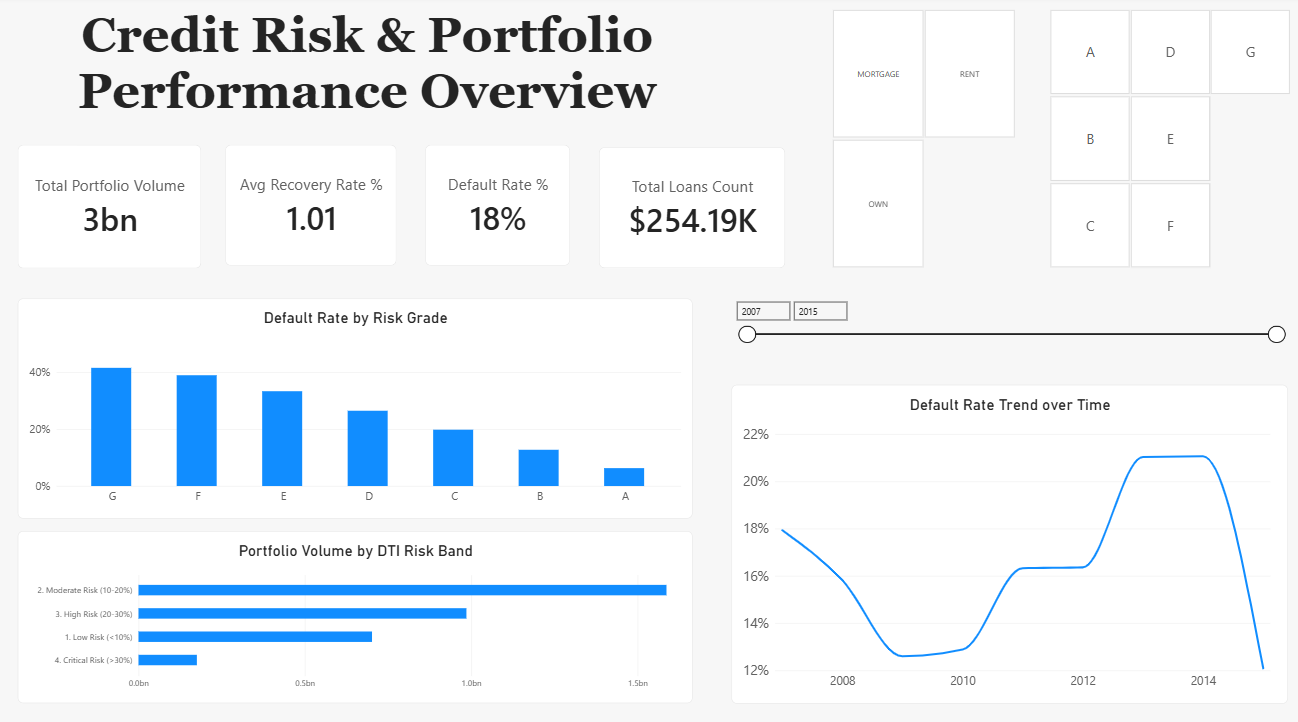

What the dashboard file says about the page in this screenshot:
{"tool":"powerbi","page":{"name":"Executive Portfolio Overview","canvas":[1920,1080],"ordinal":0},"visuals":[{"type":"slicer","fields":{"Values":["loan_processed.issue_year"]},"box":[1078.5,445.4,819,116],"z":0},{"type":"slicer","fields":{"Values":["loan_processed.grade"]},"box":[1527.6,18.4,392,382.8],"z":1000},{"type":"slicer","fields":{"Values":["loan_processed.home_ownership"]},"box":[1207.4,18.4,307.4,382.8],"z":2000},{"type":"cardVisual","fields":{"Data":["loan_processed.Total Portfolio Volume"]},"box":[27.6,219,270.6,182.2],"z":3000},{"type":"cardVisual","fields":{"Data":["loan_processed.Avg Recovery Rate %"]},"box":[333.1,219,252.1,178.5],"z":4000},{"type":"cardVisual","fields":{"Data":["loan_processed.Total Loans Count"]},"box":[883.4,222.7,274.2,178.5],"z":5000},{"type":"cardVisual","fields":{"Data":["loan_processed.Default Rate %"]},"box":[627.6,219,213.5,178.5],"z":6000},{"type":"lineChart","title":"Default Rate Trend over Time","fields":{"Category":["loan_processed (2).issue_year"],"Y":["loan_processed.Default Rate %"]},"box":[1078.5,572.4,819,469.3],"z":7000},{"type":"clusteredColumnChart","title":"Default Rate by Risk Grade","fields":{"Category":["loan_processed.grade"],"Y":["loan_processed.Default Rate %"]},"box":[27.6,445.4,993.9,323.9],"z":8000},{"type":"clusteredBarChart","title":"Portfolio Volume by DTI Risk Band","fields":{"Category":["loan_processed.dti_risk_band"],"Y":["loan_processed.Total Portfolio Volume"]},"box":[27.6,787.7,993.9,254],"z":9000},{"type":"textbox","box":[27.6,16.6,1028.8,241.1],"z":10000}]}

Visuals, with their boxes in screenshot pixels (x1, y1, x2, y2), scaled from the page's 1920x1080 canvas onto the 1298x722 screenshot:
slicer - loan_processed.issue_year: (729, 298, 1283, 375)
slicer - loan_processed.grade: (1033, 12, 1297, 268)
slicer - loan_processed.home_ownership: (816, 12, 1024, 268)
cardVisual - loan_processed.Total Portfolio Volume: (19, 146, 202, 268)
cardVisual - loan_processed.Avg Recovery Rate %: (225, 146, 396, 266)
cardVisual - loan_processed.Total Loans Count: (597, 149, 783, 268)
cardVisual - loan_processed.Default Rate %: (424, 146, 569, 266)
"Default Rate Trend over Time" lineChart: (729, 383, 1283, 696)
"Default Rate by Risk Grade" clusteredColumnChart: (19, 298, 691, 514)
"Portfolio Volume by DTI Risk Band" clusteredBarChart: (19, 527, 691, 696)
textbox: (19, 11, 714, 172)
